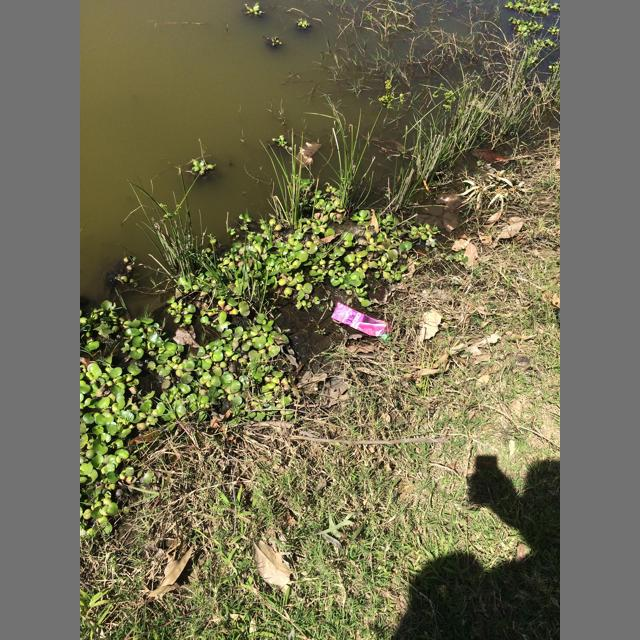litter: (331, 302, 390, 341)
